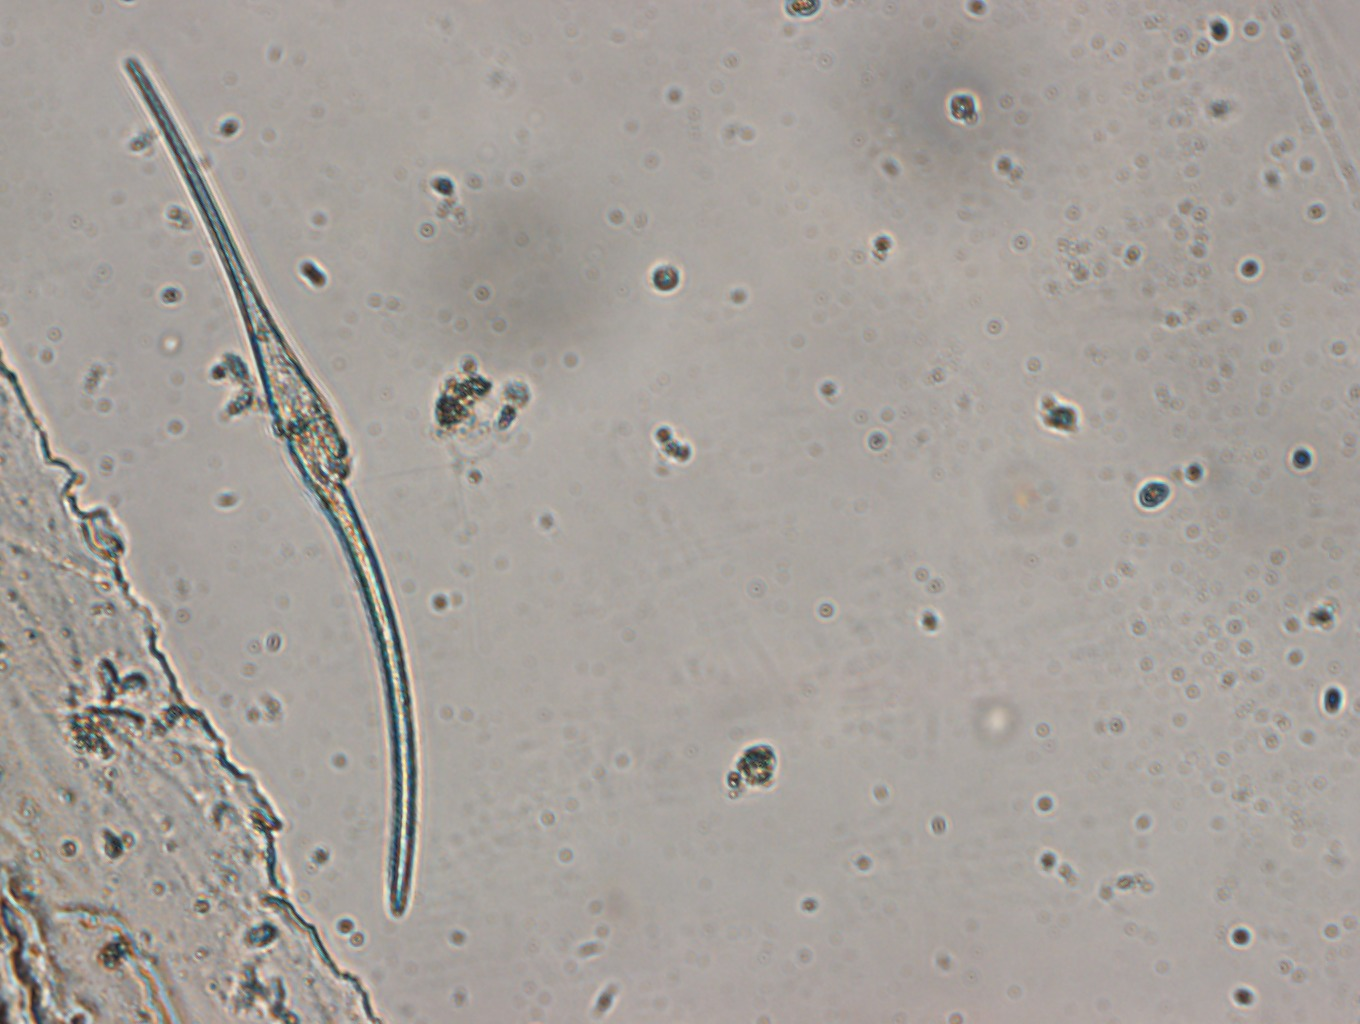ceratium fusus: (121, 51, 420, 916)
